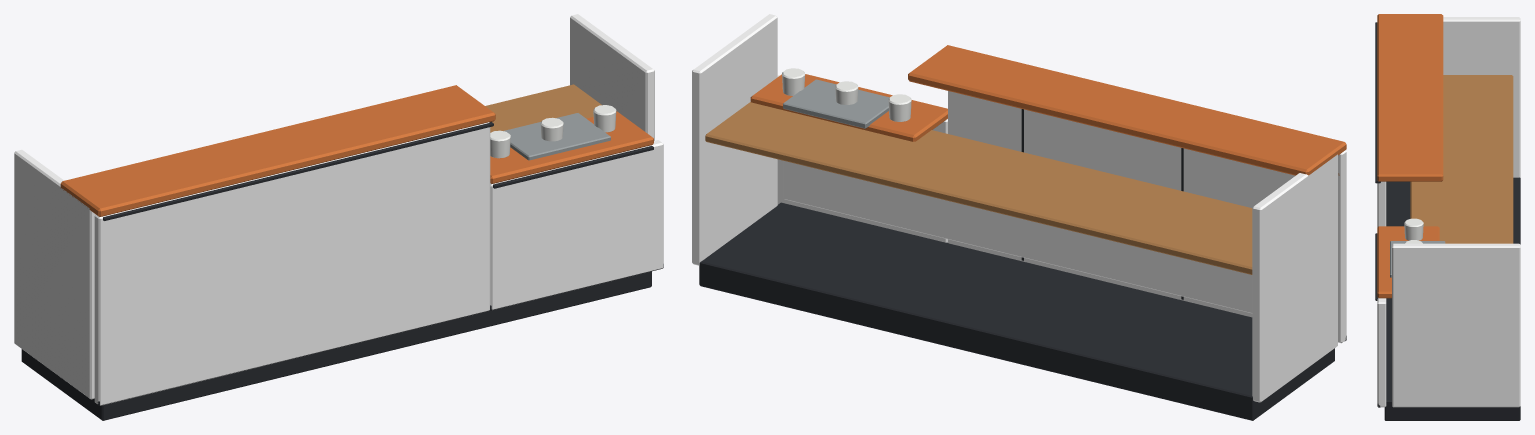
Rendered from counter-cafe-3000.glb.
The picture shows the model from 3 angles, left to right: view 1: azimuth 30°, elevation 25°; view 2: azimuth 150°, elevation 25°; view 3: azimuth 270°, elevation 25°; orthographic projection. The views are drawn at different scales.
Visible parts, largest first — view 1: counter-cafe-3000.tint, counter-cafe-3000.accent, counter-cafe-3000.graphite, counter-cafe-3000.wood, counter-cafe-3000.metal, counter-cafe-3000.ceramic; view 2: counter-cafe-3000.tint, counter-cafe-3000.graphite, counter-cafe-3000.wood, counter-cafe-3000.accent, counter-cafe-3000.metal, counter-cafe-3000.ceramic; view 3: counter-cafe-3000.tint, counter-cafe-3000.wood, counter-cafe-3000.accent, counter-cafe-3000.graphite, counter-cafe-3000.ceramic, counter-cafe-3000.metal.
Part boxes in pixels (x1=…): counter-cafe-3000.tint: x1=14, y1=14, x2=663, y2=405; counter-cafe-3000.accent: x1=60, y1=85, x2=653, y2=216; counter-cafe-3000.graphite: x1=21, y1=122, x2=663, y2=420; counter-cafe-3000.wood: x1=485, y1=84, x2=601, y2=132; counter-cafe-3000.metal: x1=503, y1=113, x2=610, y2=160; counter-cafe-3000.ceramic: x1=490, y1=105, x2=616, y2=158; counter-cafe-3000.tint: x1=692, y1=14, x2=1346, y2=402; counter-cafe-3000.graphite: x1=699, y1=109, x2=1346, y2=420; counter-cafe-3000.wood: x1=705, y1=102, x2=1252, y2=274; counter-cafe-3000.accent: x1=750, y1=45, x2=1346, y2=175; counter-cafe-3000.metal: x1=783, y1=79, x2=889, y2=128; counter-cafe-3000.ceramic: x1=782, y1=68, x2=911, y2=121; counter-cafe-3000.tint: x1=1377, y1=17, x2=1520, y2=407; counter-cafe-3000.wood: x1=1410, y1=75, x2=1513, y2=243; counter-cafe-3000.accent: x1=1377, y1=14, x2=1443, y2=298; counter-cafe-3000.graphite: x1=1375, y1=22, x2=1520, y2=420; counter-cafe-3000.ceramic: x1=1404, y1=218, x2=1423, y2=243; counter-cafe-3000.metal: x1=1390, y1=241, x2=1445, y2=277.
Size of the model in its own units: 3 by 1.1 by 0.8.
